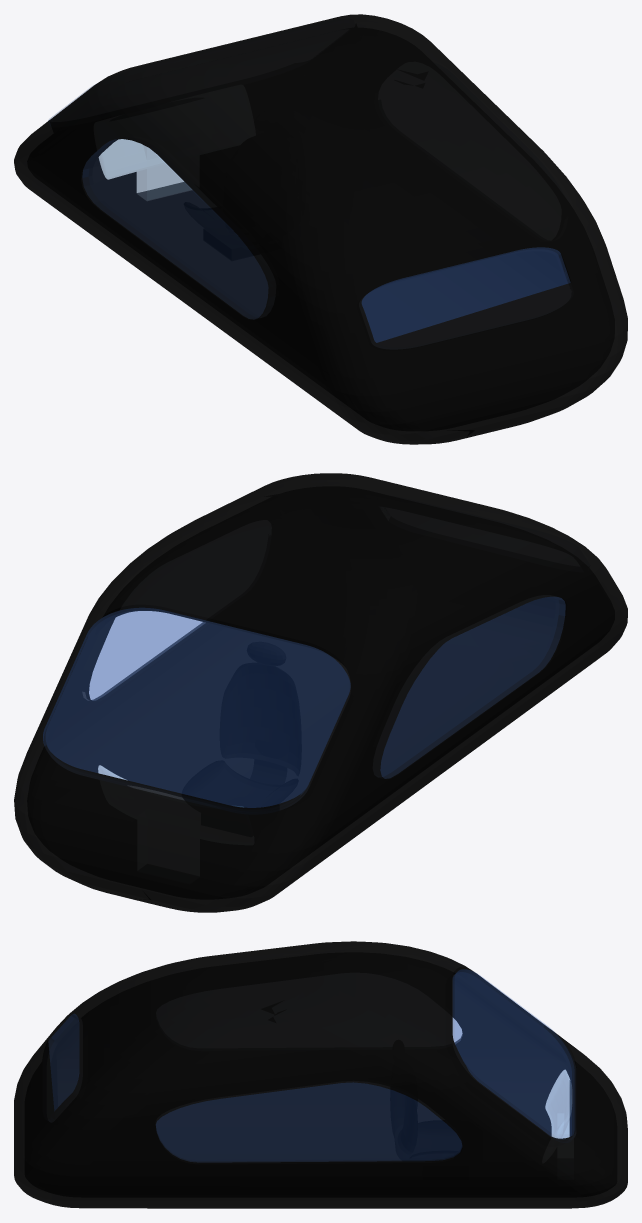
File: капсула1.fbx
3 renders of one model, top to bottom at view 1: azimuth 30°, elevation 25°; view 2: azimuth 150°, elevation 25°; view 3: azimuth 270°, elevation 25°, orthographic. The views are drawn at different scales.
Parts seen in each view (by area): view 1: Circle, Cube.004, Cube.007, Circle.003, Circle.001, Cube.002, Cube; view 2: Circle, Cube.006, Cube.004, Circle.002, Cube.005, Circle.001, Plane, Cube.001; view 3: Circle, Cube.005, Cube.006, Cube.007, Circle.001, Circle.002, Circle.003.
Part boxes in pixels (<box>): Circle: <box>14,14,627,444</box>; Cube.004: <box>82,139,268,318</box>; Cube.007: <box>362,247,569,342</box>; Circle.003: <box>99,139,165,178</box>; Circle.001: <box>183,202,245,245</box>; Cube.002: <box>137,164,183,192</box>; Cube: <box>203,228,253,260</box>; Circle: <box>14,473,627,912</box>; Cube.006: <box>43,608,350,807</box>; Cube.004: <box>380,597,565,778</box>; Circle.002: <box>219,662,301,776</box>; Cube.005: <box>89,611,202,699</box>; Circle.001: <box>181,760,298,807</box>; Plane: <box>227,739,288,807</box>; Cube.001: <box>246,641,286,666</box>; Circle: <box>14,941,627,1208</box>; Cube.005: <box>156,1082,461,1161</box>; Cube.006: <box>453,969,573,1139</box>; Cube.007: <box>49,1014,78,1110</box>; Circle.001: <box>409,1120,461,1158</box>; Circle.002: <box>390,1089,417,1154</box>; Circle.003: <box>546,1070,569,1137</box>.
Size of the model in its own units: 400 by 315 by 854.
